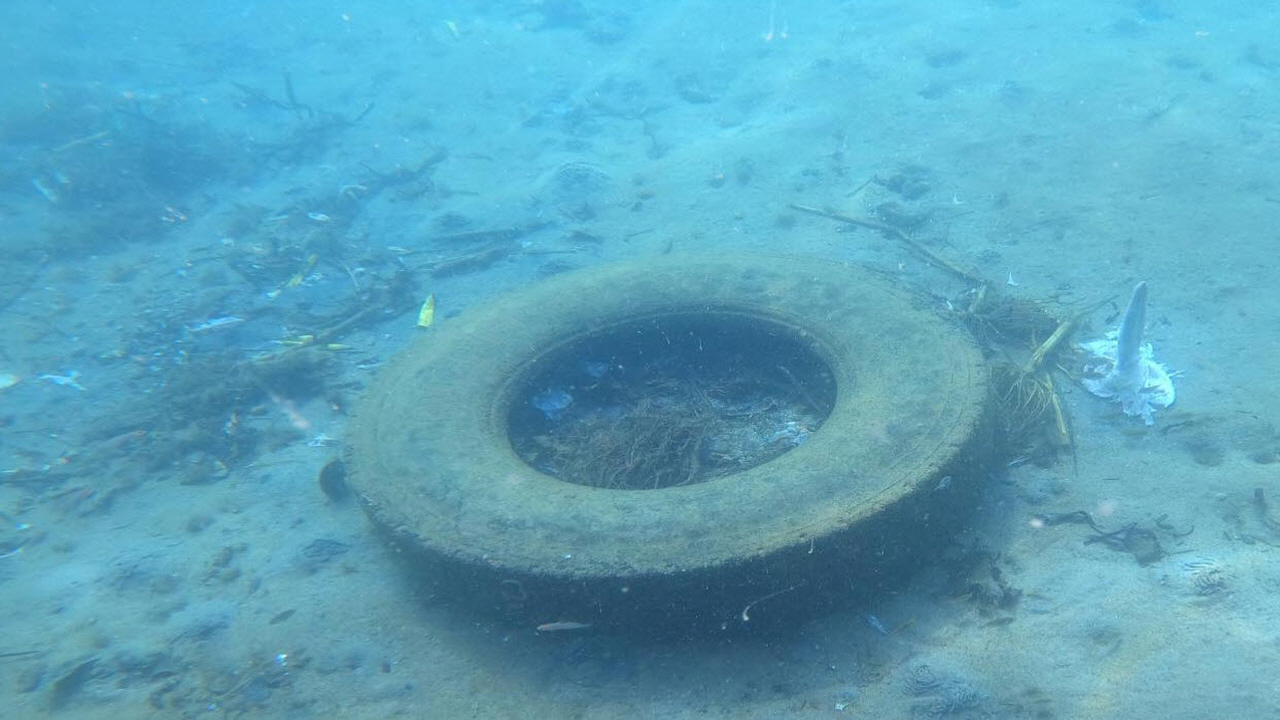tire: (340, 250, 997, 631)
